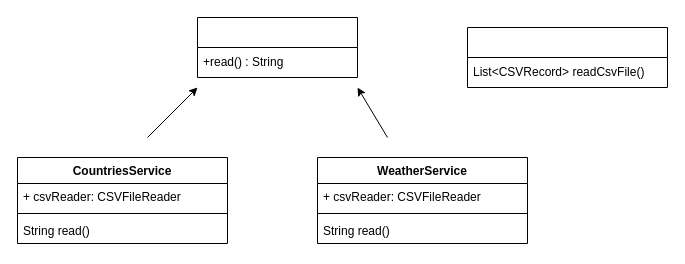
Image size: 685x264. Some labels were removed from this diagram. The shapes that lost their labels are listed below. From the top down, each one's box as (x1, y1, x2, y2) in pixels, then its label:
(196, 16, 358, 78): <<interface>> ReadService
(466, 26, 668, 88): CsvFileReader
